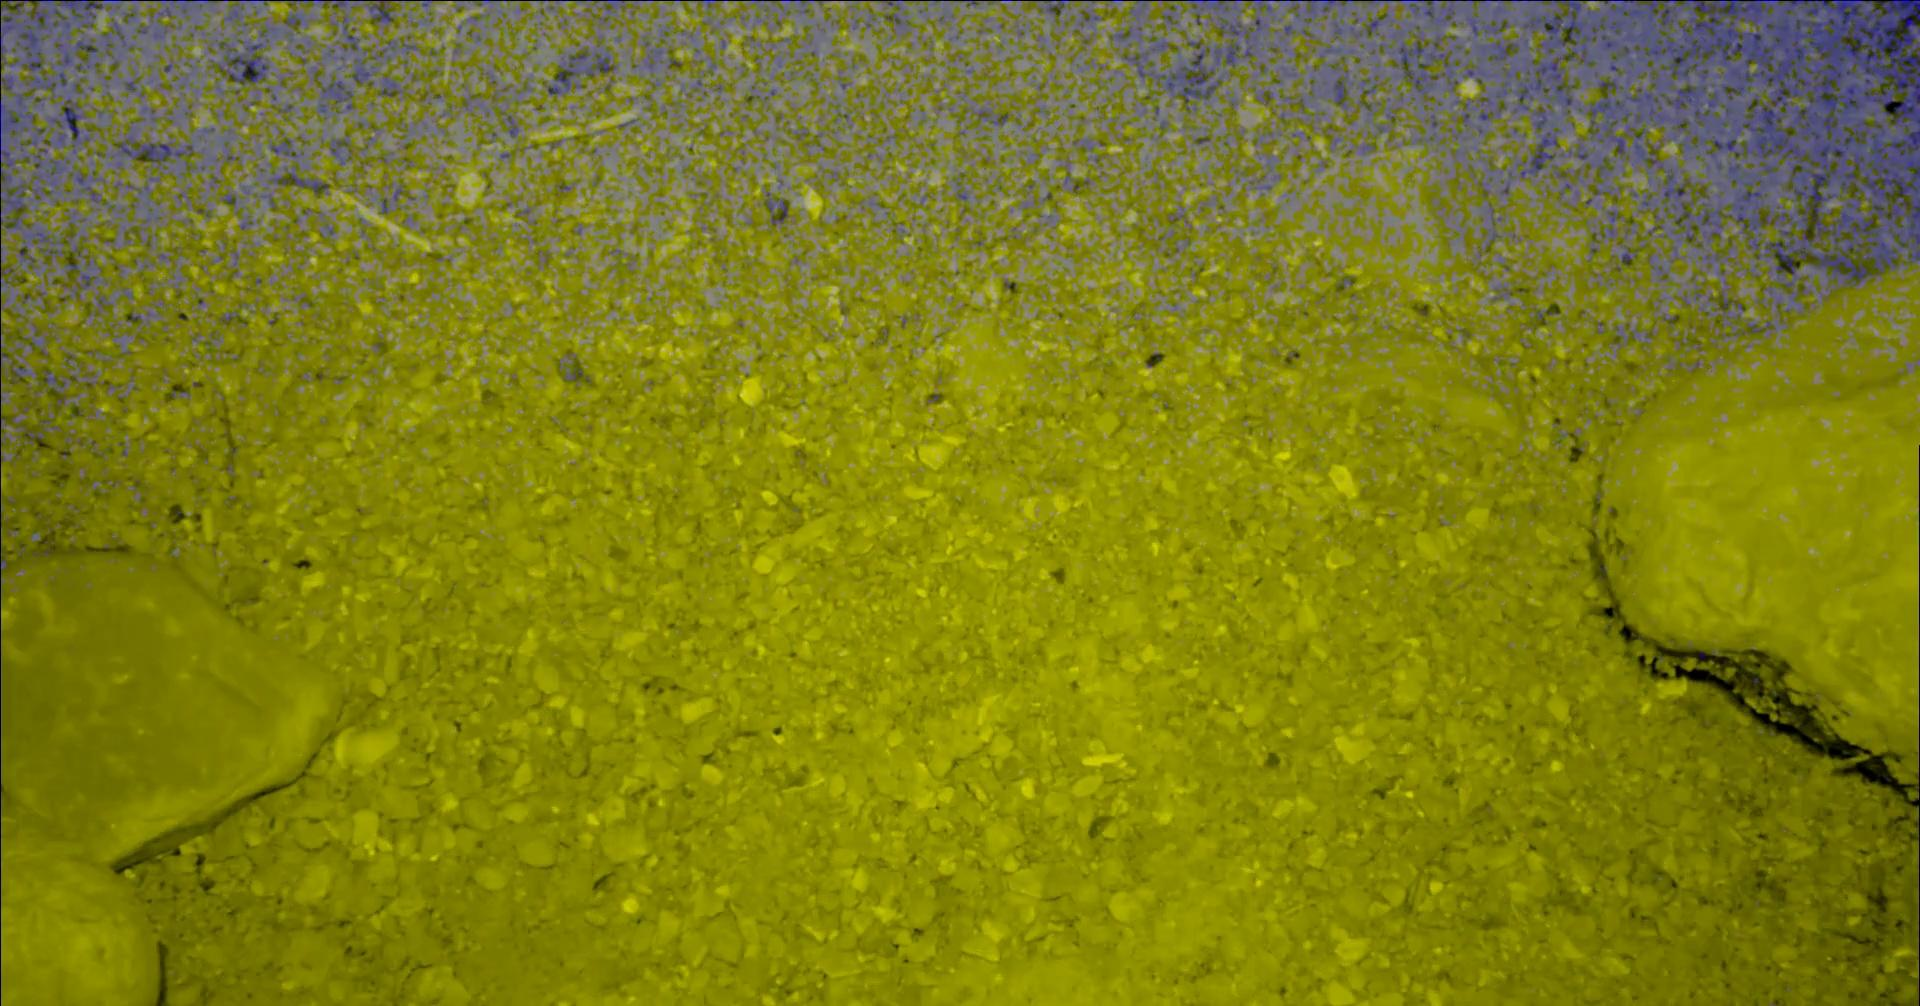ant: (69, 165, 116, 210), (267, 163, 329, 194), (312, 67, 353, 109), (1705, 290, 1743, 326), (1450, 98, 1484, 135), (223, 0, 272, 25), (1349, 11, 1394, 37), (1698, 238, 1736, 268), (574, 0, 625, 22), (157, 0, 217, 18), (348, 50, 376, 86), (0, 246, 23, 290), (135, 13, 171, 39), (17, 420, 58, 443), (1331, 70, 1352, 108), (1764, 286, 1792, 314), (22, 324, 47, 354), (764, 191, 787, 224), (1595, 210, 1622, 238), (1731, 319, 1775, 335), (770, 0, 822, 13), (329, 133, 350, 164), (342, 14, 359, 51), (269, 138, 303, 158), (1550, 165, 1571, 197), (283, 11, 305, 41), (368, 0, 392, 24), (39, 370, 65, 392), (370, 39, 396, 61), (9, 358, 30, 384), (1031, 0, 1067, 15), (1488, 203, 1502, 241), (286, 0, 354, 8), (88, 295, 112, 316), (378, 76, 403, 97), (112, 182, 149, 194), (978, 109, 1008, 124), (0, 395, 9, 447), (1356, 74, 1378, 94), (1319, 44, 1345, 61), (1078, 9, 1101, 27), (959, 0, 1011, 8), (123, 77, 143, 97), (1683, 285, 1702, 305), (1162, 4, 1178, 27), (1622, 245, 1639, 265), (1246, 0, 1274, 13), (0, 542, 6, 597), (1357, 94, 1374, 114), (1110, 25, 1131, 41), (1147, 36, 1168, 51), (884, 13, 908, 25), (1331, 17, 1343, 39), (505, 114, 518, 137), (141, 105, 157, 121), (1651, 264, 1667, 279), (121, 8, 136, 23), (0, 345, 6, 379), (883, 0, 903, 9), (1260, 90, 1272, 104), (222, 192, 236, 205), (1917, 840, 1919, 959), (0, 672, 1, 737)
